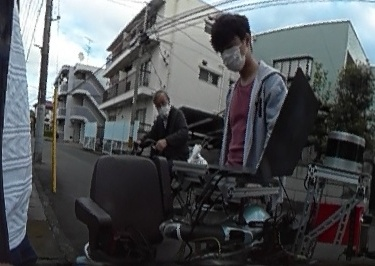person: (207, 12, 288, 168), (143, 89, 188, 160)
